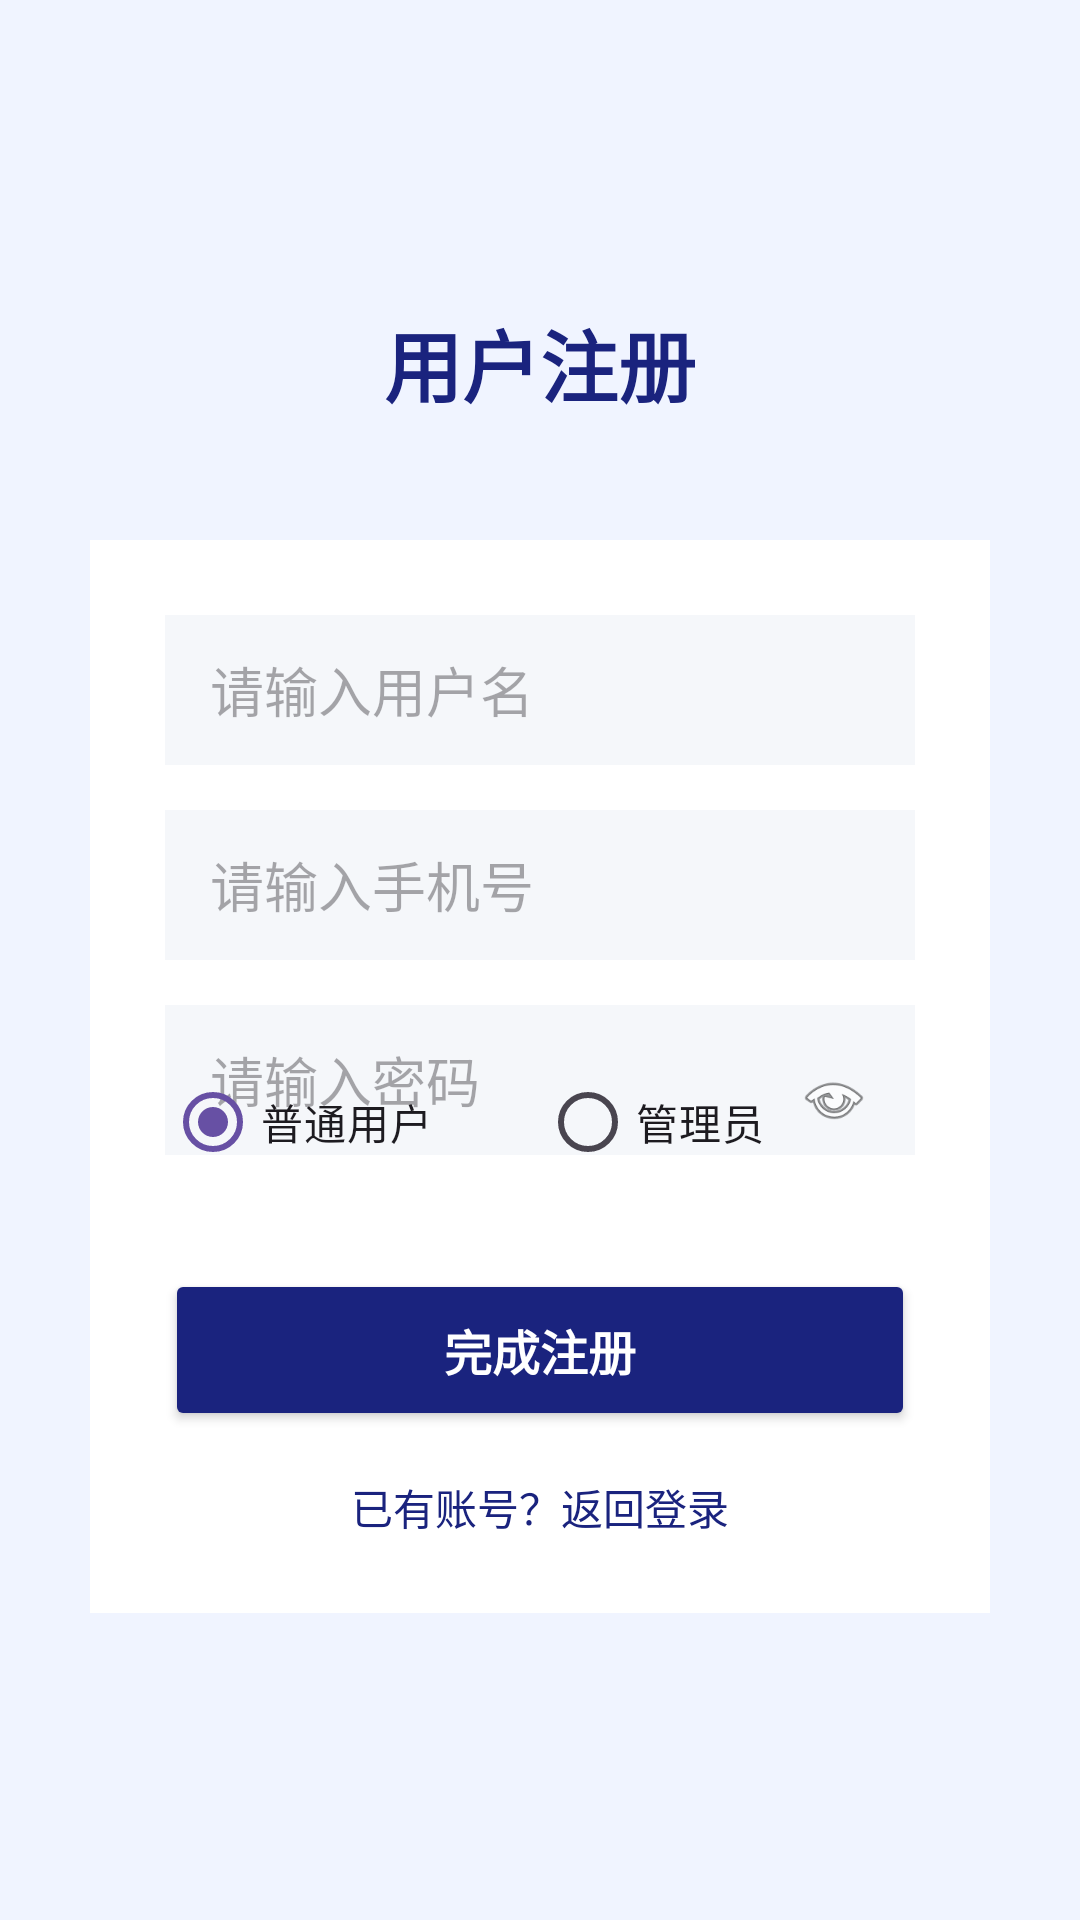

Named icons in this screenshot (1080x1920) and their bounding boxes, (x1, y1, x2, y2):
view: (805, 1082, 863, 1119)
